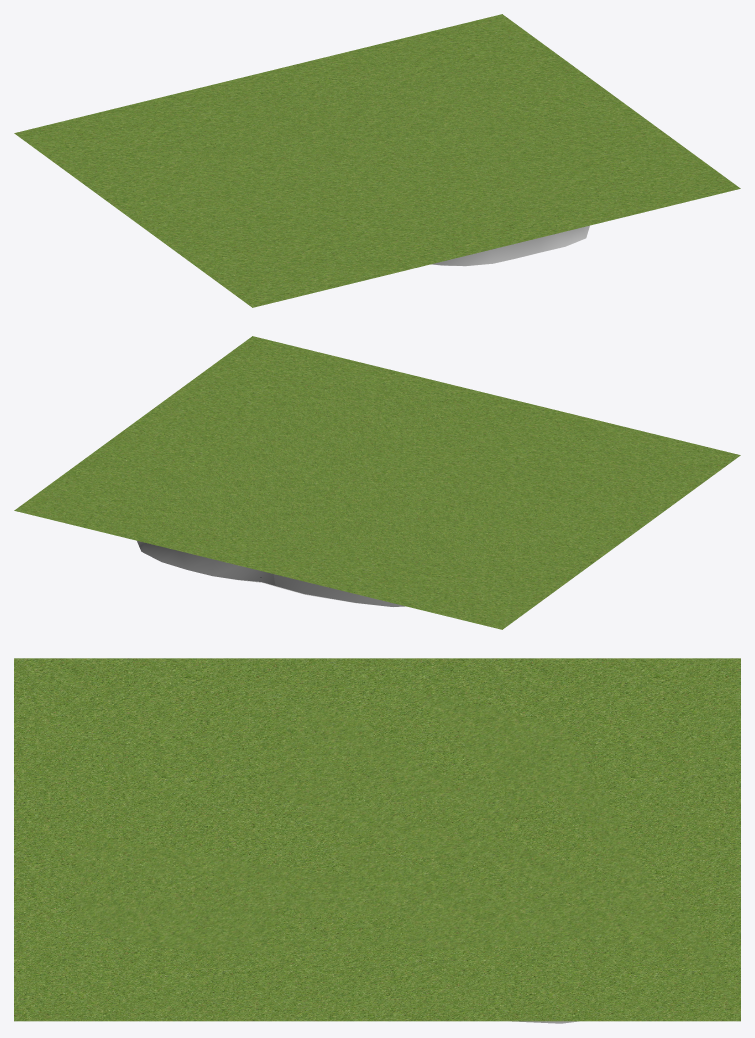
File: set.FBX
3 renders of one model, top to bottom at view 1: azimuth 30°, elevation 25°; view 2: azimuth 150°, elevation 25°; view 3: azimuth 270°, elevation 25°, orthographic. The views are drawn at different scales.
Visible parts, largest first — view 1: Plane001, Line003; view 2: Plane001, Line003; view 3: Plane001.
Boxes of the visible parts, x1,y1,x2,y2 form: Plane001: (14,14,740,307); Line003: (432,225,589,265); Plane001: (14,336,740,629); Line003: (137,541,404,606); Plane001: (14,658,740,1021).
Size of the model in its own units: 320 by 26.24 by 271.
